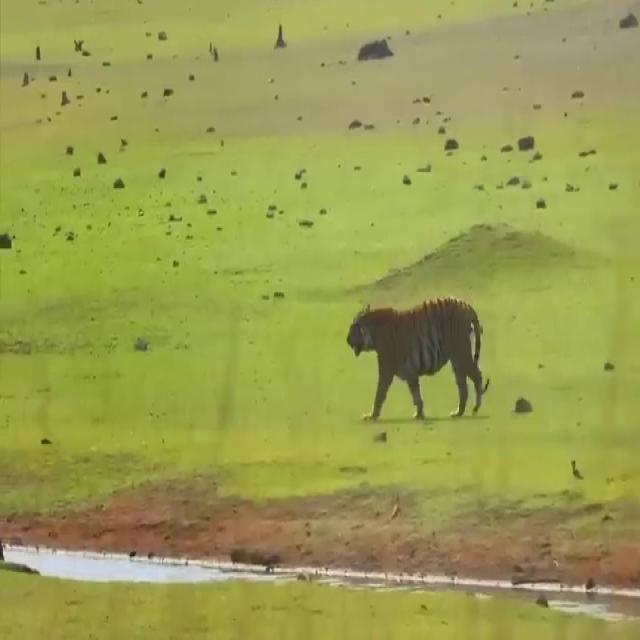tiger: (346, 298, 490, 421)
